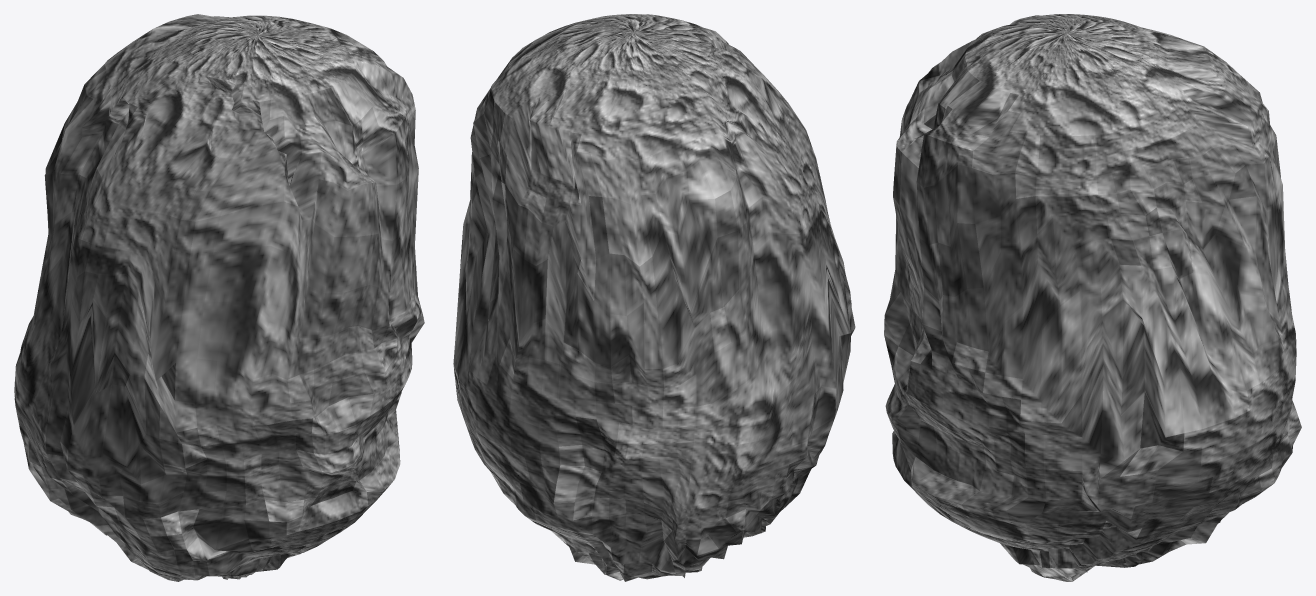
File: asteroid.fbx
3 views of the same model, side by side, from view 1: azimuth 30°, elevation 25°; view 2: azimuth 150°, elevation 25°; view 3: azimuth 270°, elevation 25° (orthographic). The views are drawn at different scales.
Visible parts, largest first — view 1: Sphere; view 2: Sphere; view 3: Sphere.
Part boxes in pixels (<box>): Sphere: <box>14,14,424,581</box>; Sphere: <box>453,14,855,581</box>; Sphere: <box>884,14,1301,581</box>.
Size of the model in its own units: 190 by 280 by 192.
